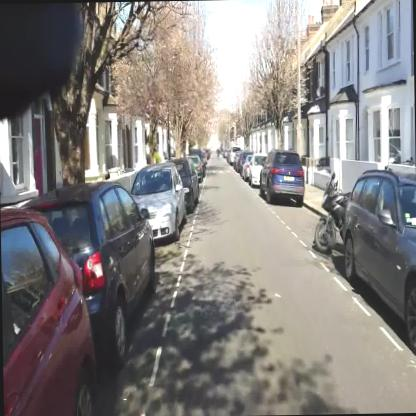car: (18, 180, 156, 368), (1, 203, 99, 415), (342, 169, 415, 368), (129, 160, 187, 247), (259, 149, 304, 207), (167, 157, 200, 216), (247, 152, 268, 188), (242, 155, 251, 182)
motorcycle: (313, 170, 351, 254)
